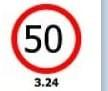road_sign: (14, 3, 81, 73)
